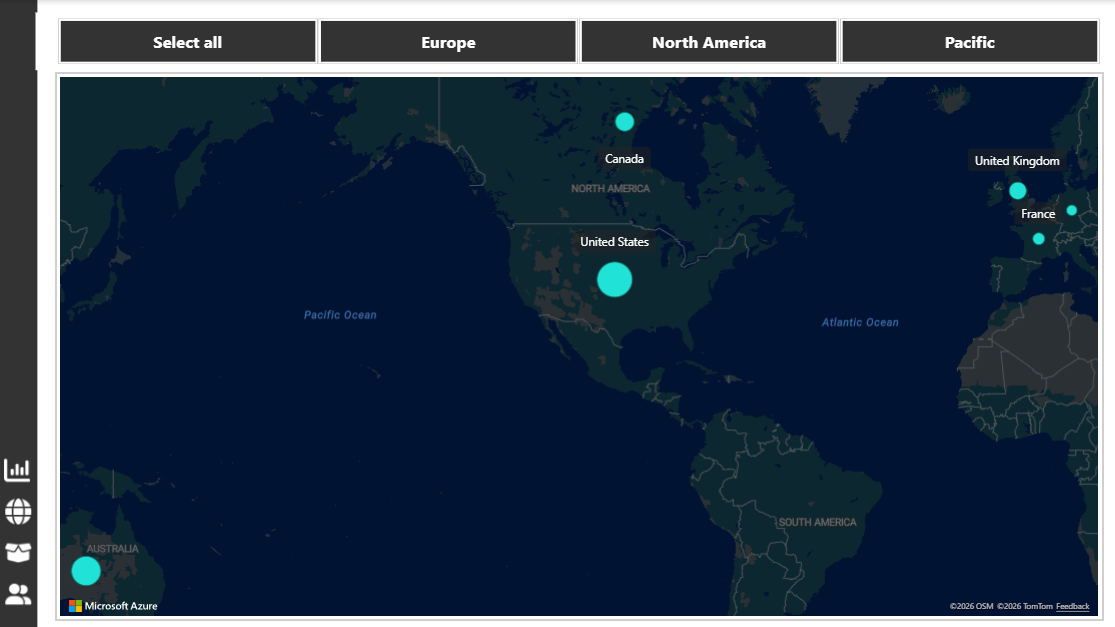

What the dashboard file says about the page in this screenshot:
{"tool":"powerbi","page":{"name":"Map","canvas":[1280,720],"ordinal":1},"visuals":[{"type":"shape","box":[0,0,45,720],"z":0},{"type":"actionButton","box":[2.5,516.7,45.6,37.8],"z":0,"group":"g1"},{"type":"azureMap","fields":{"Category":["Territory Lookup.Country"],"Size":["Measure Table.Total Orders"]},"box":[65.6,82.5,1191.3,622.8],"z":1000},{"type":"actionButton","box":[3.3,563.4,45.6,37.8],"z":1000,"group":"g1"},{"type":"slicer","fields":{"Values":["Territory Lookup.Continent"]},"box":[43,13.6,1234.3,65.6],"z":2000},{"type":"actionButton","box":[3.3,611.1,45.6,37.8],"z":2000,"group":"g1"},{"type":"group","id":"g1","title":"Navigation Buttons","box":[2.5,516.7,46.4,178.9],"z":3000},{"type":"actionButton","box":[3.3,657.8,45.6,37.8],"z":3000,"group":"g1"}]}

Visuals, with their boxes in screenshot pixels (x1, y1, x2, y2):
shape: 17,6,56,624
actionButton: 20,450,59,482
azureMap - Territory Lookup.Country x Measure Table.Total Orders: 74,77,1097,612
actionButton: 20,490,59,522
slicer - Territory Lookup.Continent: 54,17,1114,74
actionButton: 20,531,59,563
"Navigation Buttons" group: 20,450,59,603
actionButton: 20,571,59,603
